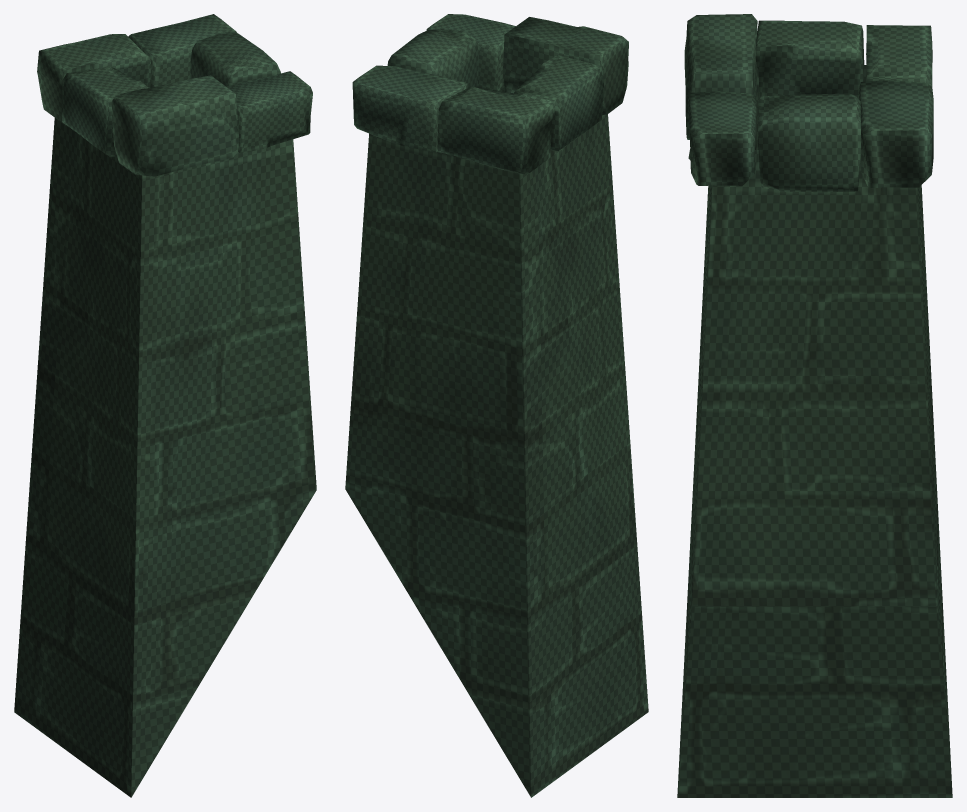
3 renders of one model, left to right at view 1: azimuth 30°, elevation 25°; view 2: azimuth 150°, elevation 25°; view 3: azimuth 270°, elevation 25°, orthographic. The views are drawn at different scales.
Parts seen in each view (by area): view 1: Prop_Chimney; view 2: Prop_Chimney; view 3: Prop_Chimney.
Boxes of the visible parts, left/top/right/bottom form: Prop_Chimney: left=14, top=14, right=316, bottom=797; Prop_Chimney: left=345, top=14, right=648, bottom=797; Prop_Chimney: left=677, top=14, right=952, bottom=797.
Size of the model in its own units: 0.9458 by 3.18 by 1.
2 materials, 2 textured.
